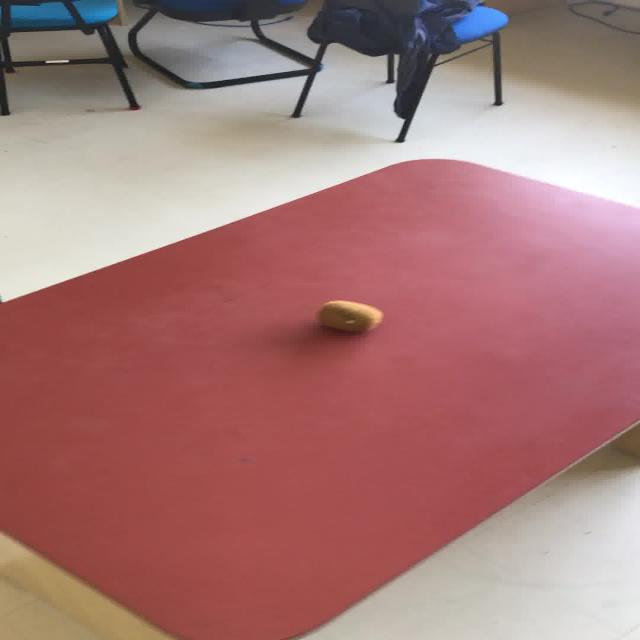kiwi: (317, 299, 383, 332)
